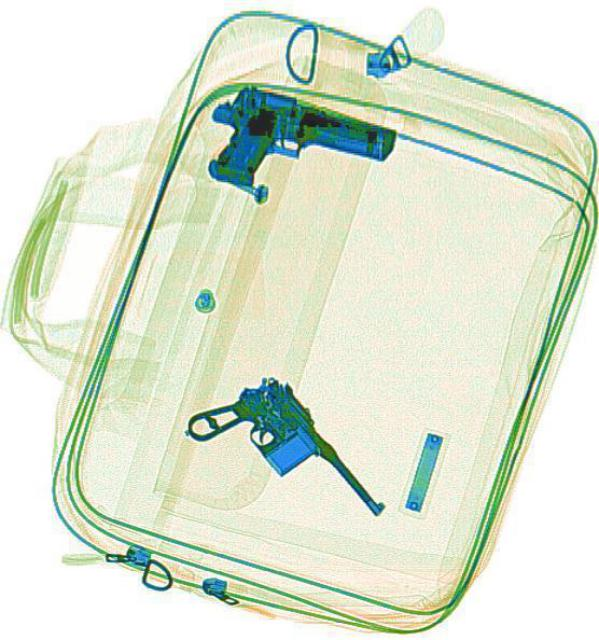Gun: (178, 354, 387, 572), (191, 74, 396, 224)
